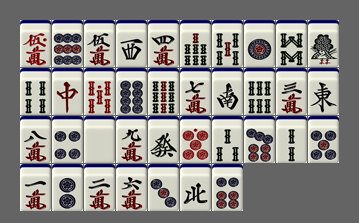0m: (20, 20, 51, 67)
0p: (180, 116, 211, 163)
0s: (84, 68, 115, 115)
1m: (20, 164, 51, 211)
1p: (244, 20, 275, 67)
1s: (308, 20, 339, 67)
1z: (308, 68, 339, 115)
2m: (84, 164, 115, 211)
2p: (52, 164, 83, 211)
2s: (276, 116, 307, 163)
2z: (212, 68, 243, 115)
3m: (276, 68, 307, 115)
3p: (148, 164, 179, 211)
3s: (212, 116, 243, 163)
3z: (116, 20, 147, 67)
4m: (148, 20, 179, 67)
4p: (52, 116, 83, 163)
4s: (20, 68, 51, 115)
4z: (180, 164, 211, 211)
5m: (84, 20, 115, 67)
5p: (308, 116, 339, 163)
5s: (212, 20, 243, 67)
5z: (84, 116, 115, 163)
6m: (116, 164, 147, 211)
6p: (212, 164, 243, 211)
6s: (244, 68, 275, 115)
6z: (148, 116, 179, 163)
7m: (180, 68, 211, 115)
7p: (244, 116, 275, 163)
7s: (180, 20, 211, 67)
7z: (52, 68, 83, 115)
8m: (20, 116, 51, 163)
8p: (116, 68, 147, 115)
8s: (276, 20, 307, 67)
9m: (116, 116, 147, 163)
9p: (52, 20, 83, 67)
9s: (148, 68, 179, 115)
